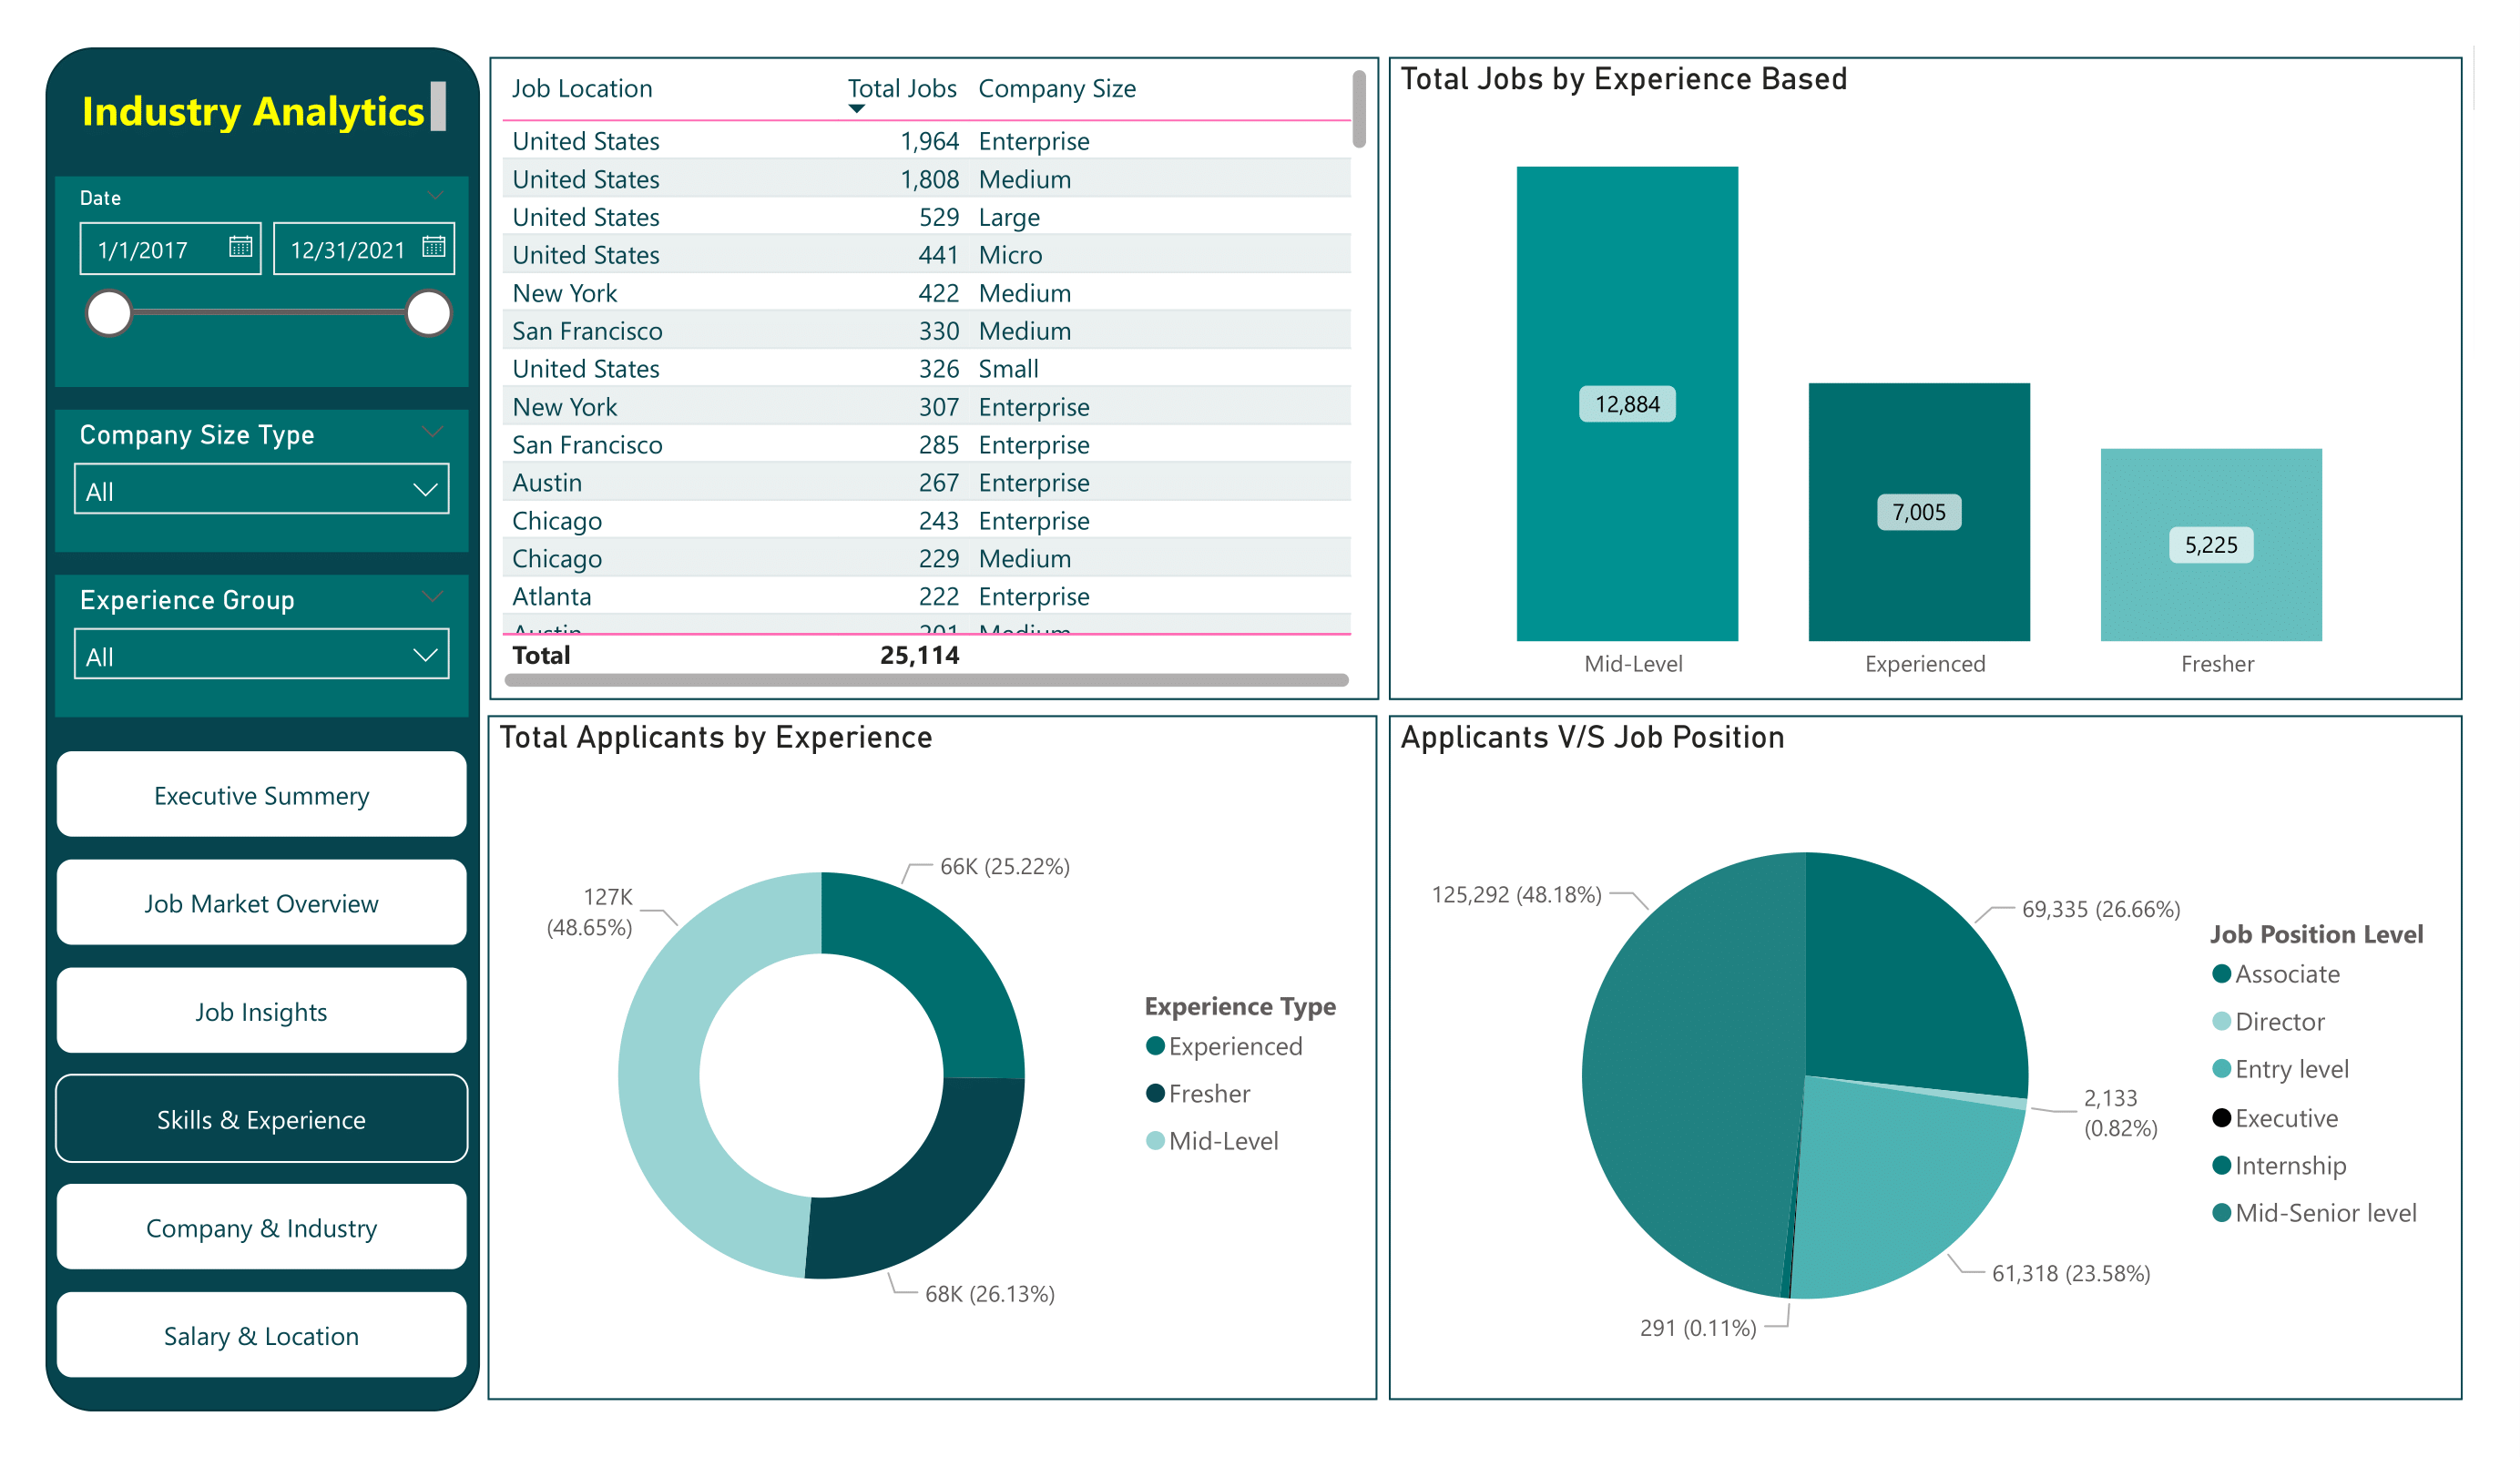

Layout of this report page (visuals, bound fields, positions):
{"tool":"powerbi","page":{"name":"Skills & Experience","canvas":[1280,720],"ordinal":3},"visuals":[{"type":"lineStackedColumnComboChart","title":"Total Jobs by Experience Based","fields":{"Y":["_Measure.Total Jobs"],"Category":["job_postings.Experience Group"]},"box":[707.5,6,566.4,338.6],"z":0},{"type":"group","id":"g1","title":"Group 1","box":[0,0.8,229.1,719.1],"z":1000},{"type":"donutChart","title":"Total Applicants by Experience","fields":{"Category":["job_postings.Experience Group"],"Y":["_Measure.Total Applicants"]},"box":[233.3,353.3,468.9,361.1],"z":2000},{"type":"pieChart","title":"Applicants V/S Job Position","fields":{"Category":["job_postings.Job Position Level"],"Y":["_Measure.Total Applicants"]},"box":[707.8,353.3,566.7,361.1],"z":3000},{"type":"tableEx","fields":{"Values":["job_postings.Job Location.1","_Measure.Total Jobs","job_postings.Company Size Type"]},"box":[233.6,6.4,469.1,339.1],"z":4001},{"type":"shape","box":[0,0.8,229.1,719.1],"z":8000,"group":"g1"},{"type":"textbox","box":[10.9,13.5,205.5,37.3],"z":9000,"group":"g1"},{"type":"slicer","fields":{"Values":["DimDate.Date"]},"box":[5,68.8,217.7,110.9],"z":10000},{"type":"pageNavigator","box":[5,371.1,217.7,332.6],"z":11000},{"type":"slicer","fields":{"Values":["job_postings.Company Size Type"]},"box":[5.3,192,217.7,74.7],"z":12000},{"type":"slicer","fields":{"Values":["job_postings.Experience Group"]},"box":[5.3,279,217.7,74.7],"z":13000}]}

Visuals, with their boxes on the page's 1280x720 design canvas (x1, y1, x2, y2). These are canvas units, not pixel positions in the 2520x1457 screenshot, which may show the page scaled, cropped or inside an application window:
"Total Jobs by Experience Based" lineStackedColumnComboChart: left=708, top=6, right=1274, bottom=345
"Group 1" group: left=0, top=1, right=229, bottom=720
"Total Applicants by Experience" donutChart: left=233, top=353, right=702, bottom=714
"Applicants V/S Job Position" pieChart: left=708, top=353, right=1274, bottom=714
tableEx - job_postings.Job Location.1 x _Measure.Total Jobs: left=234, top=6, right=703, bottom=346
shape: left=0, top=1, right=229, bottom=720
textbox: left=11, top=14, right=216, bottom=51
slicer - DimDate.Date: left=5, top=69, right=223, bottom=180
pageNavigator: left=5, top=371, right=223, bottom=704
slicer - job_postings.Company Size Type: left=5, top=192, right=223, bottom=267
slicer - job_postings.Experience Group: left=5, top=279, right=223, bottom=354
